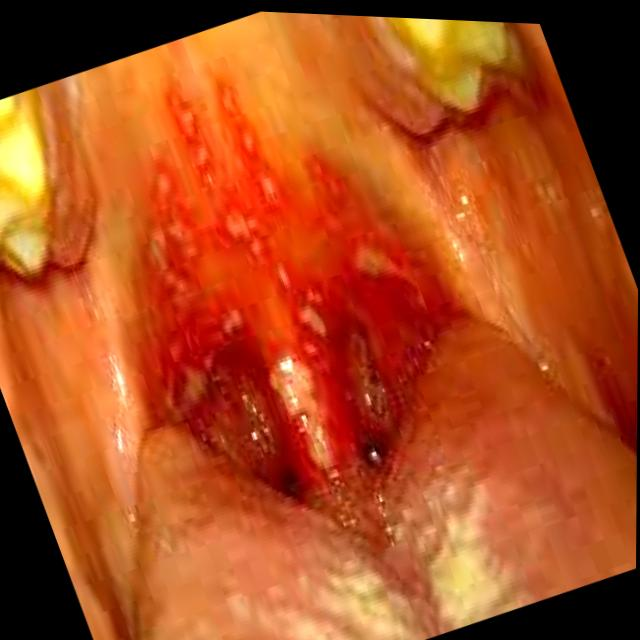ulcer: (166, 88, 198, 140), (357, 249, 391, 278), (222, 212, 256, 241), (301, 305, 327, 331), (260, 174, 273, 198)
